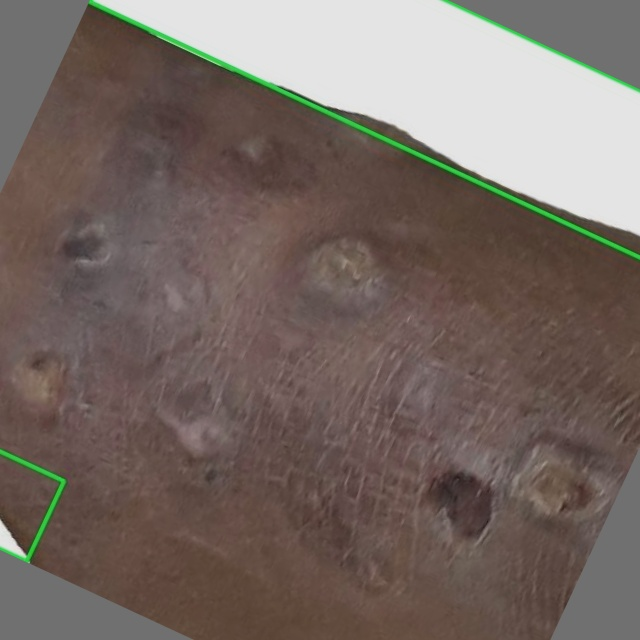Eczema: (89, 0, 639, 258)
